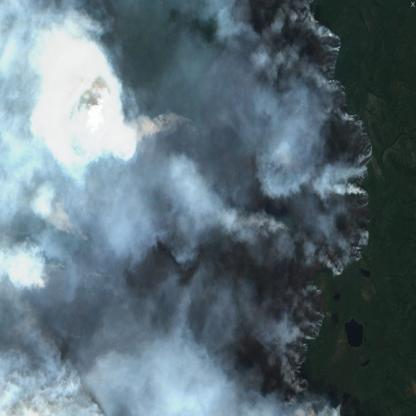fire: (297, 284, 343, 416), (324, 75, 378, 156), (348, 154, 373, 272), (302, 5, 340, 71), (308, 254, 350, 280)
